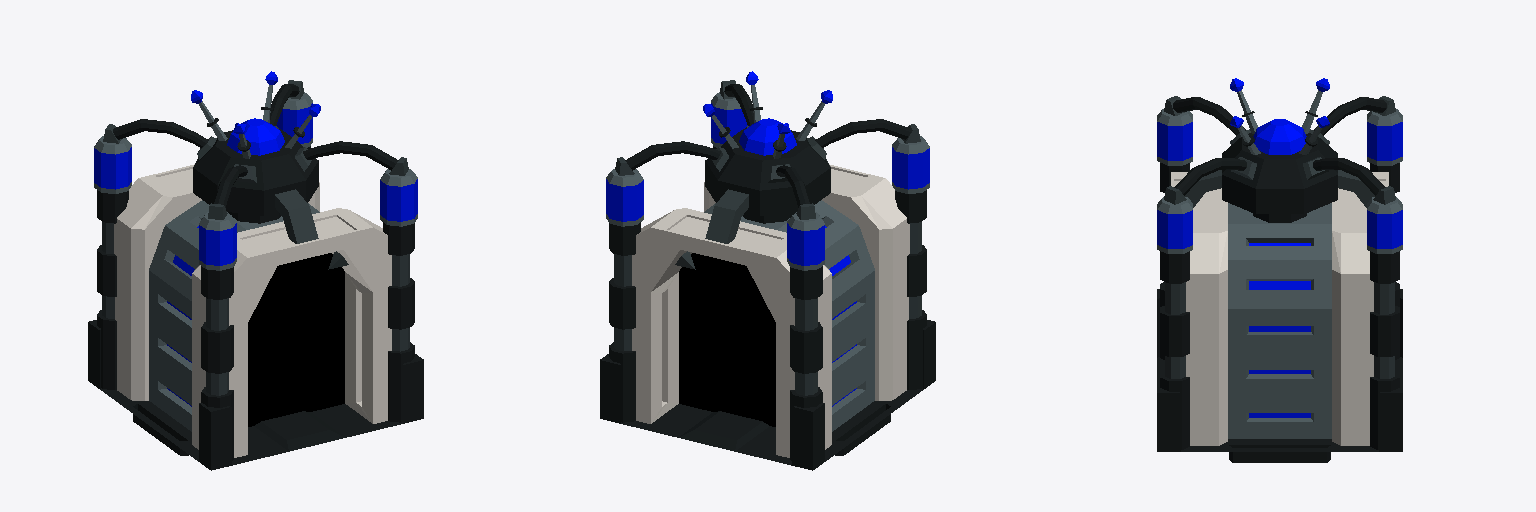
The picture shows the model from 3 angles: view 1: azimuth 30°, elevation 25°; view 2: azimuth 150°, elevation 25°; view 3: azimuth 270°, elevation 25°; orthographic projection.
Visible parts, largest first — view 1: Plane.009_Plane.011; view 2: Plane.009_Plane.011; view 3: Plane.009_Plane.011.
Part boxes in pixels (x1,y1,x2,y2): Plane.009_Plane.011: (88,71,423,470); Plane.009_Plane.011: (600,71,935,470); Plane.009_Plane.011: (1157,78,1402,462).
Size of the model in its own units: 2 by 2.84 by 2.
Materials: 1 (1 with a texture image).